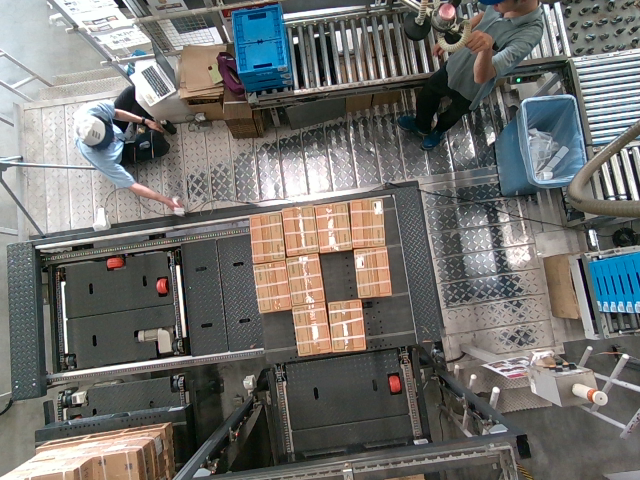box: (246, 214, 284, 262), (279, 208, 317, 256), (312, 203, 350, 251), (348, 200, 386, 248), (354, 249, 392, 297), (286, 257, 324, 305), (255, 263, 293, 311), (293, 305, 331, 353), (328, 300, 366, 348)
